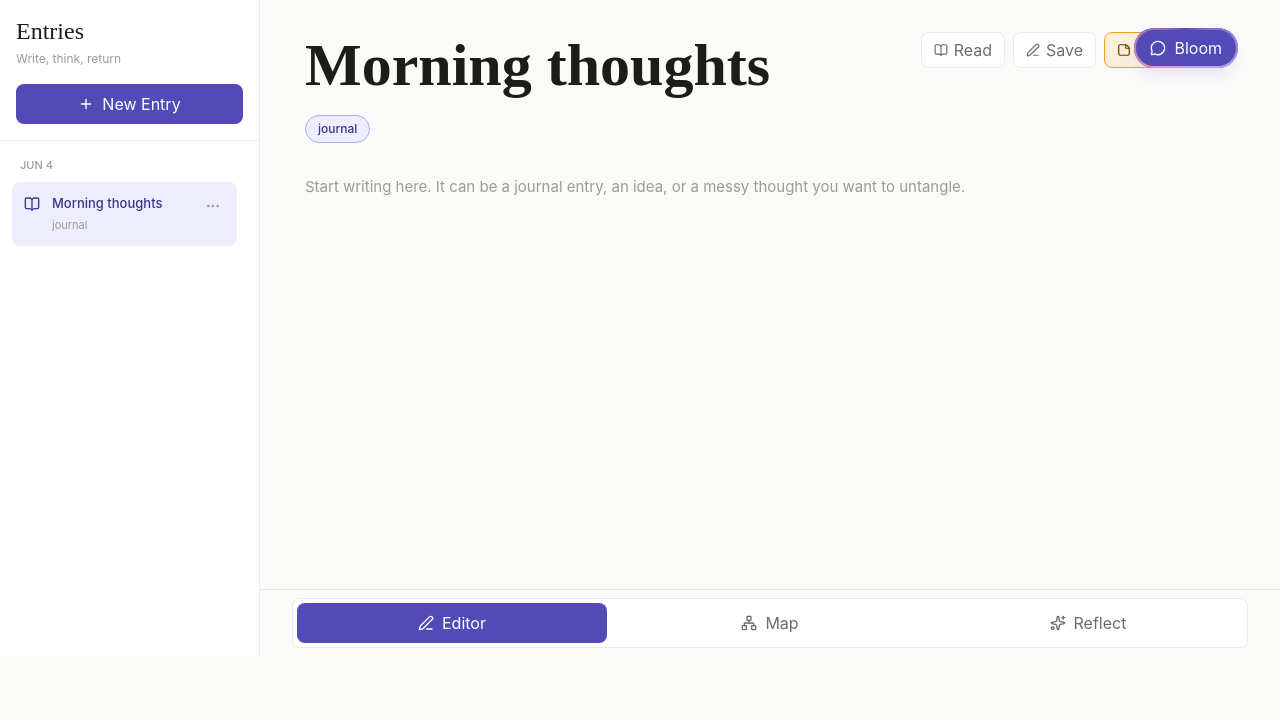
Test case: JournalWorkspace › opens entry rename from the sidebar action menu and closes the menu outside
Click the button named "Entry actions for Morning thoughts" at (213, 206), box [197,190,229,222]
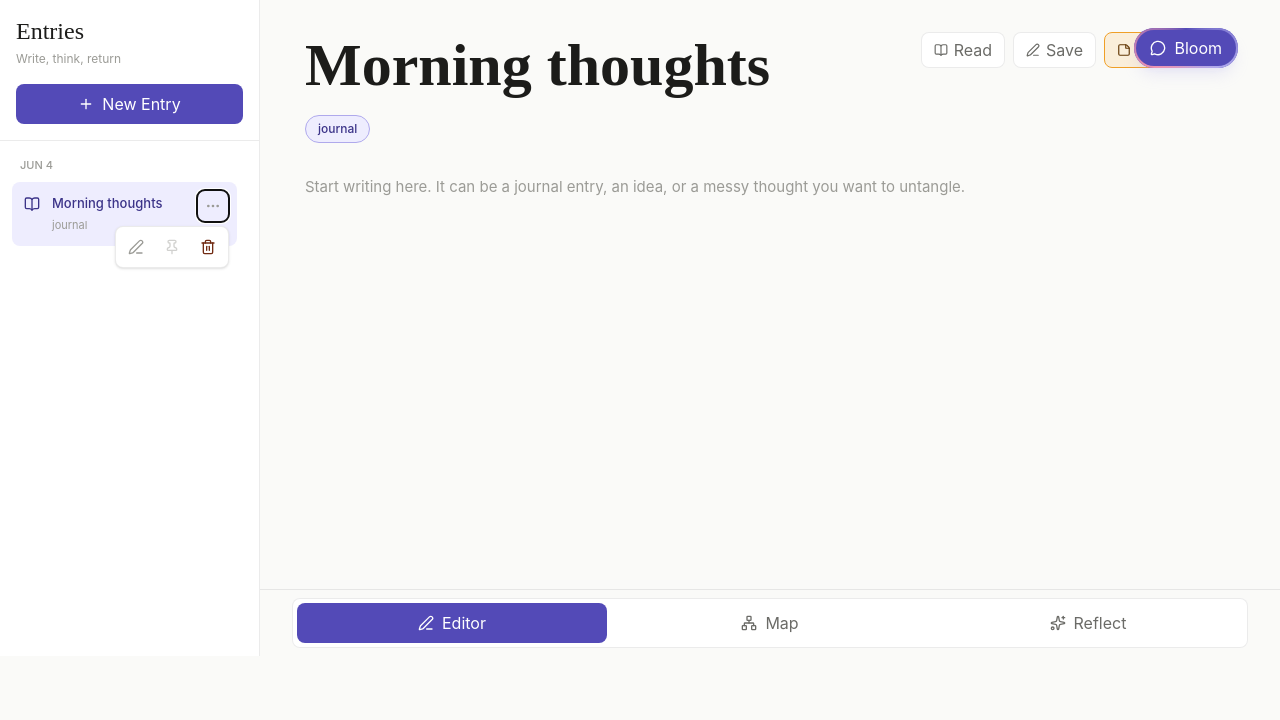
Now the button named "Rename Morning thoughts" is shown, box [120,230,152,262]
Now the button named "Pin Morning thoughts" is shown
Now the button named "Delete Morning thoughts" is shown, box [192,230,224,262]
Click the button named "Pin Morning thoughts" at (172, 246), box [156,230,188,262]
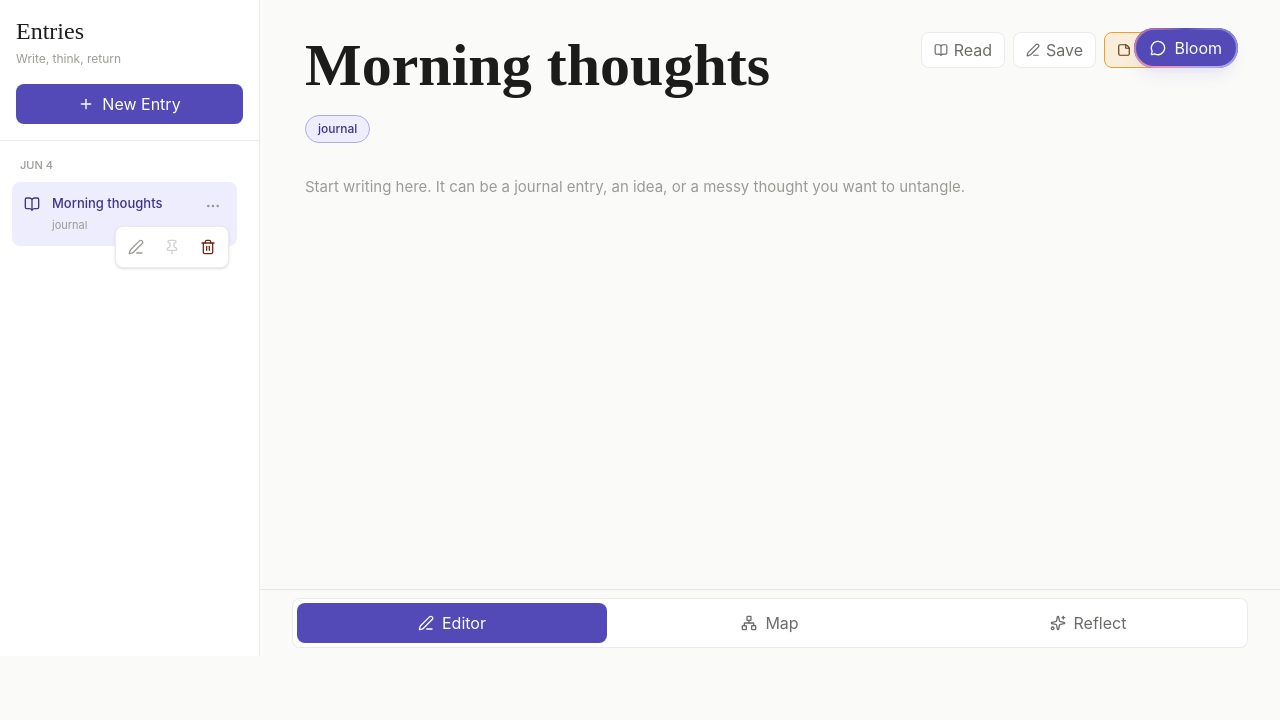
Now the button named "Delete Morning thoughts" is shown, box [192,230,224,262]
Click the text box labelled "journal entry" at (765, 400), box [305,175,1225,625]
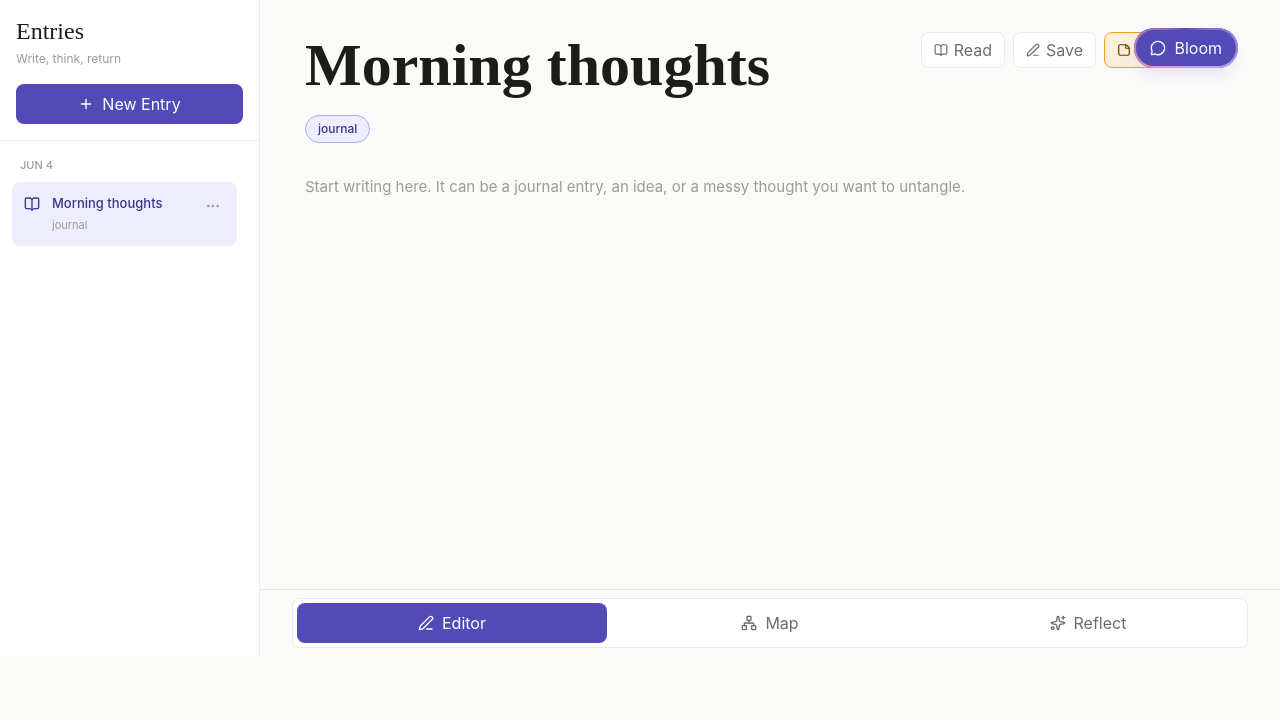
Click the button named "Entry actions for Morning thoughts" at (213, 206), box [197,190,229,222]
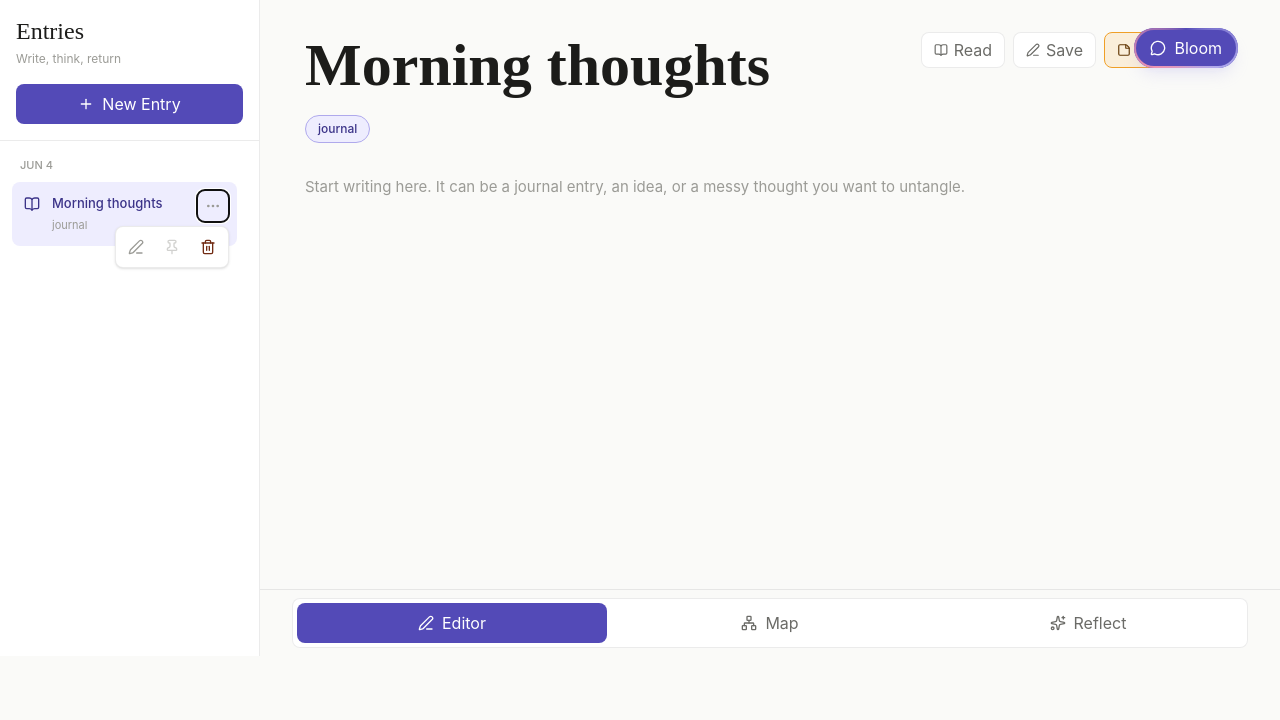
Click the button named "Rename Morning thoughts" at (136, 246), box [120,230,152,262]
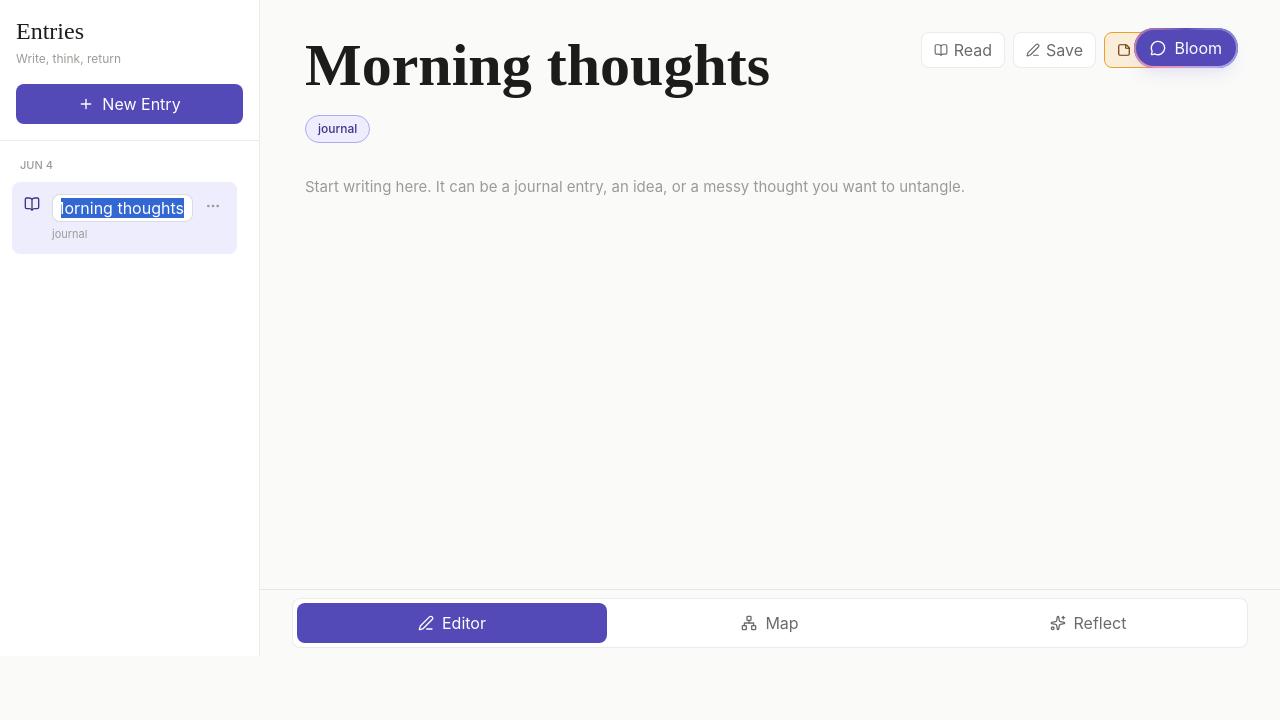
Now the field named "Rename entry Morning thoughts" holds "Morning thoughts", box [52,194,193,222]
